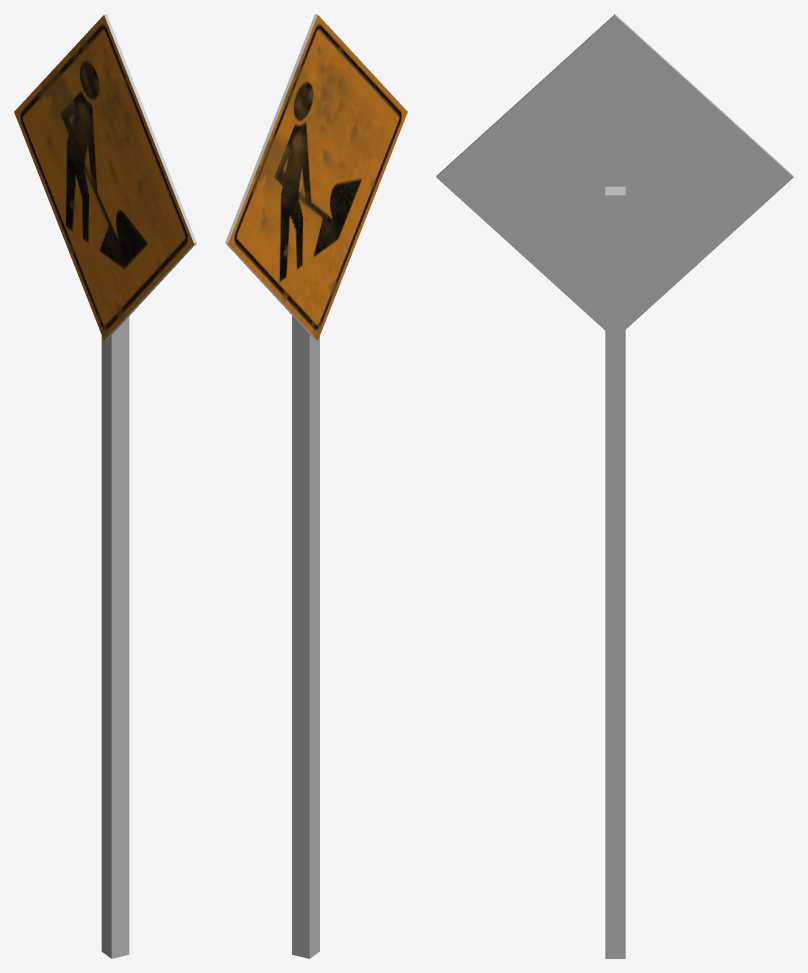
File: trafficSign_diamond.fbx
The picture shows the model from 3 angles, left to right: view 1: azimuth 30°, elevation 25°; view 2: azimuth 150°, elevation 25°; view 3: azimuth 270°, elevation 25°; orthographic projection.
Parts seen in each view (by area): view 1: trafficSign_diamond; view 2: trafficSign_diamond; view 3: trafficSign_diamond.
Part boxes in pixels (bbox=[...]): trafficSign_diamond: bbox=[14, 14, 196, 958]; trafficSign_diamond: bbox=[225, 14, 407, 958]; trafficSign_diamond: bbox=[436, 14, 793, 958].
Bounding box in the file's own units: 6.99 × 306 × 106.
